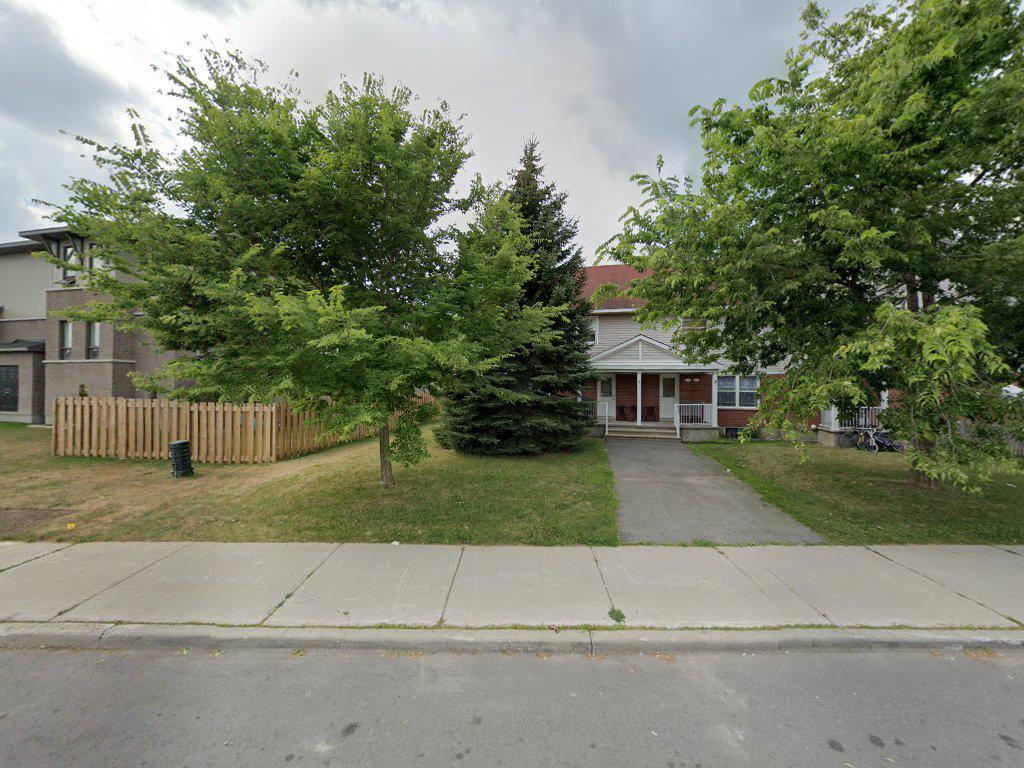trunk: (371, 403, 399, 500)
